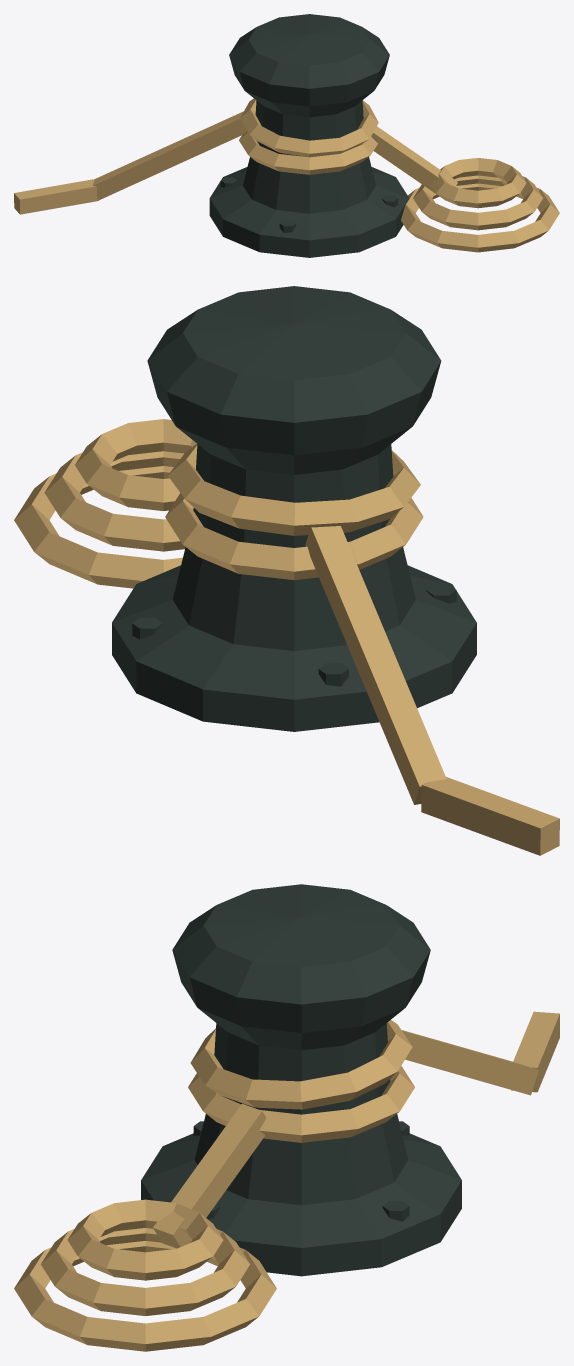
File: harbor_bollard_v01.glb
3 renders of one model, top to bottom at view 1: azimuth 30°, elevation 25°; view 2: azimuth 150°, elevation 25°; view 3: azimuth 270°, elevation 25°, orthographic. The views are drawn at different scales.
Parts seen in each view (by area): view 1: bollard; view 2: bollard; view 3: bollard.
Boxes of the visible parts, bbox=[...] form: bollard: bbox=[14, 14, 559, 257]; bollard: bbox=[14, 286, 559, 855]; bollard: bbox=[14, 884, 559, 1351].
Size of the model in its own units: 1.7 by 0.72 by 1.22.
